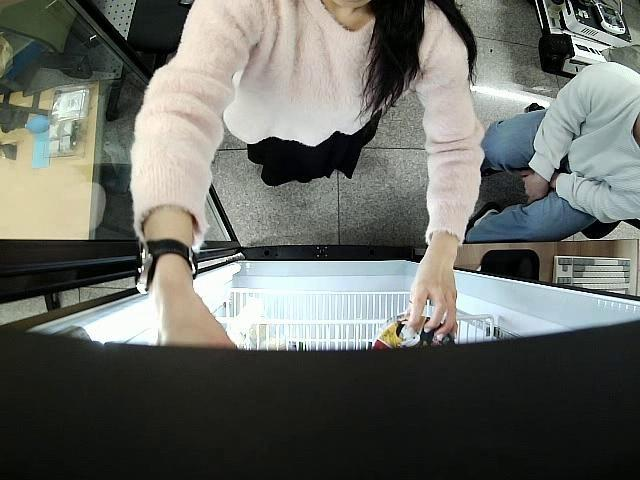07_buldak_L: (370, 314, 456, 348)
